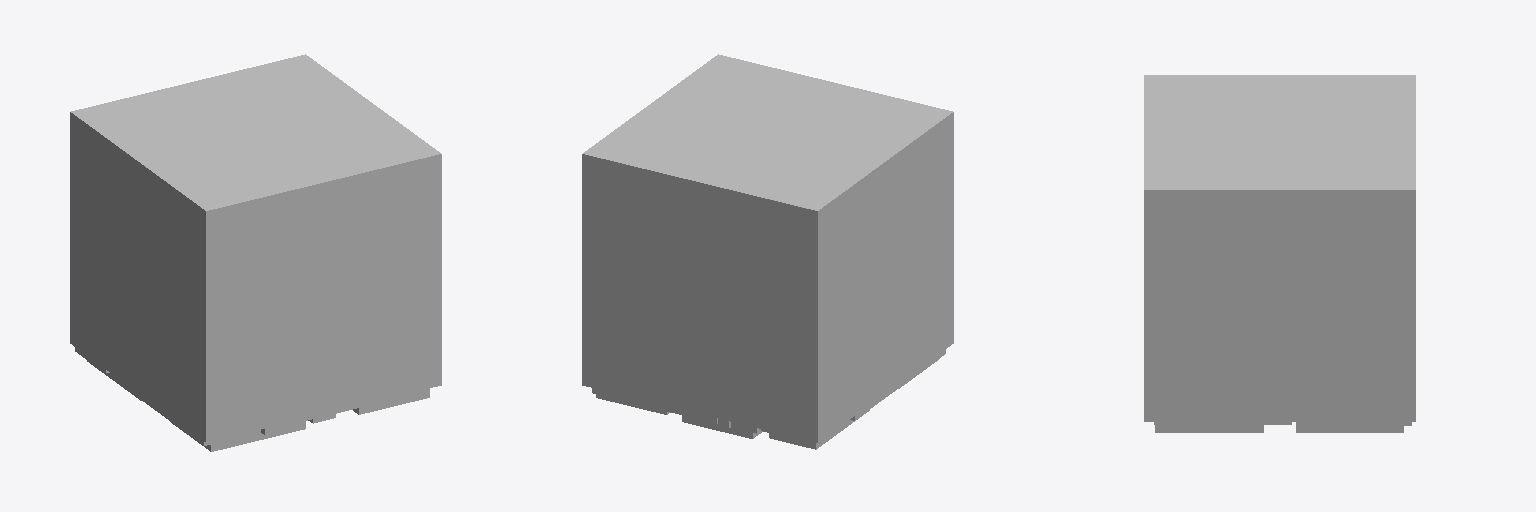
File: core_right.obj
The picture shows the model from 3 angles: view 1: azimuth 30°, elevation 25°; view 2: azimuth 150°, elevation 25°; view 3: azimuth 270°, elevation 25°; orthographic projection.
Visible parts, largest first — view 1: Cube.001; view 2: Cube.001; view 3: Cube.001.
Part boxes in pixels (x1,y1,x2,y2): Cube.001: (70,54,441,451); Cube.001: (582,54,953,449); Cube.001: (1144,75,1415,432).
Size of the model in its own units: 1 by 0.9999 by 1.